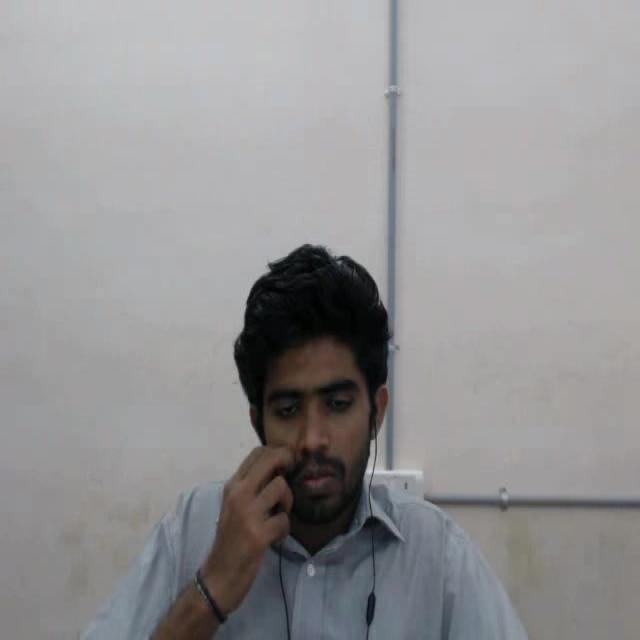Bored: (206, 207, 435, 591)
